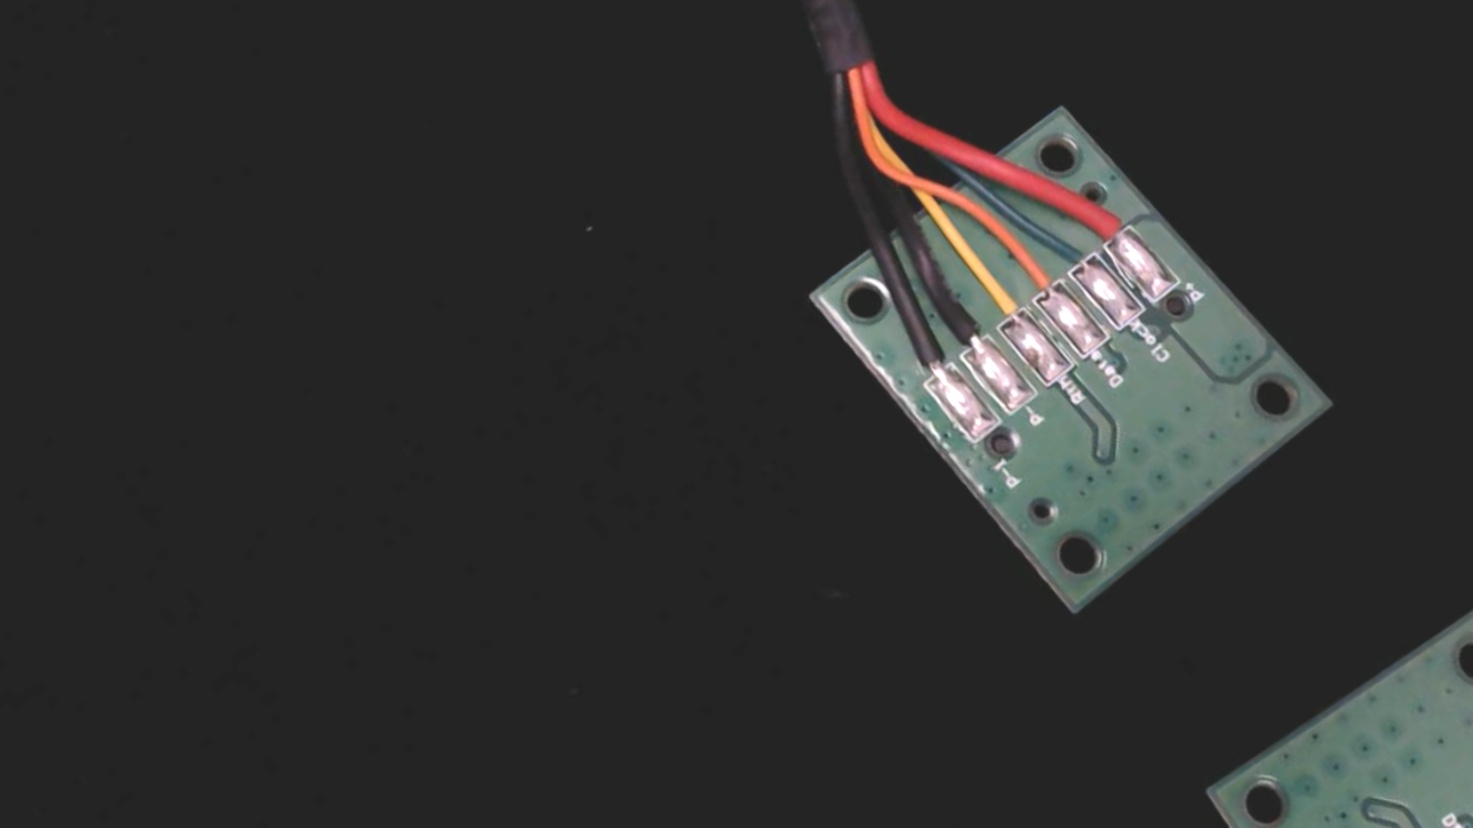Black: (921, 282, 1001, 368)
Black1: (886, 314, 965, 398)
Green: (1036, 213, 1110, 288)
Orange: (1009, 247, 1073, 312)
Red: (1065, 180, 1141, 259)
Yellow: (961, 258, 1042, 342)
